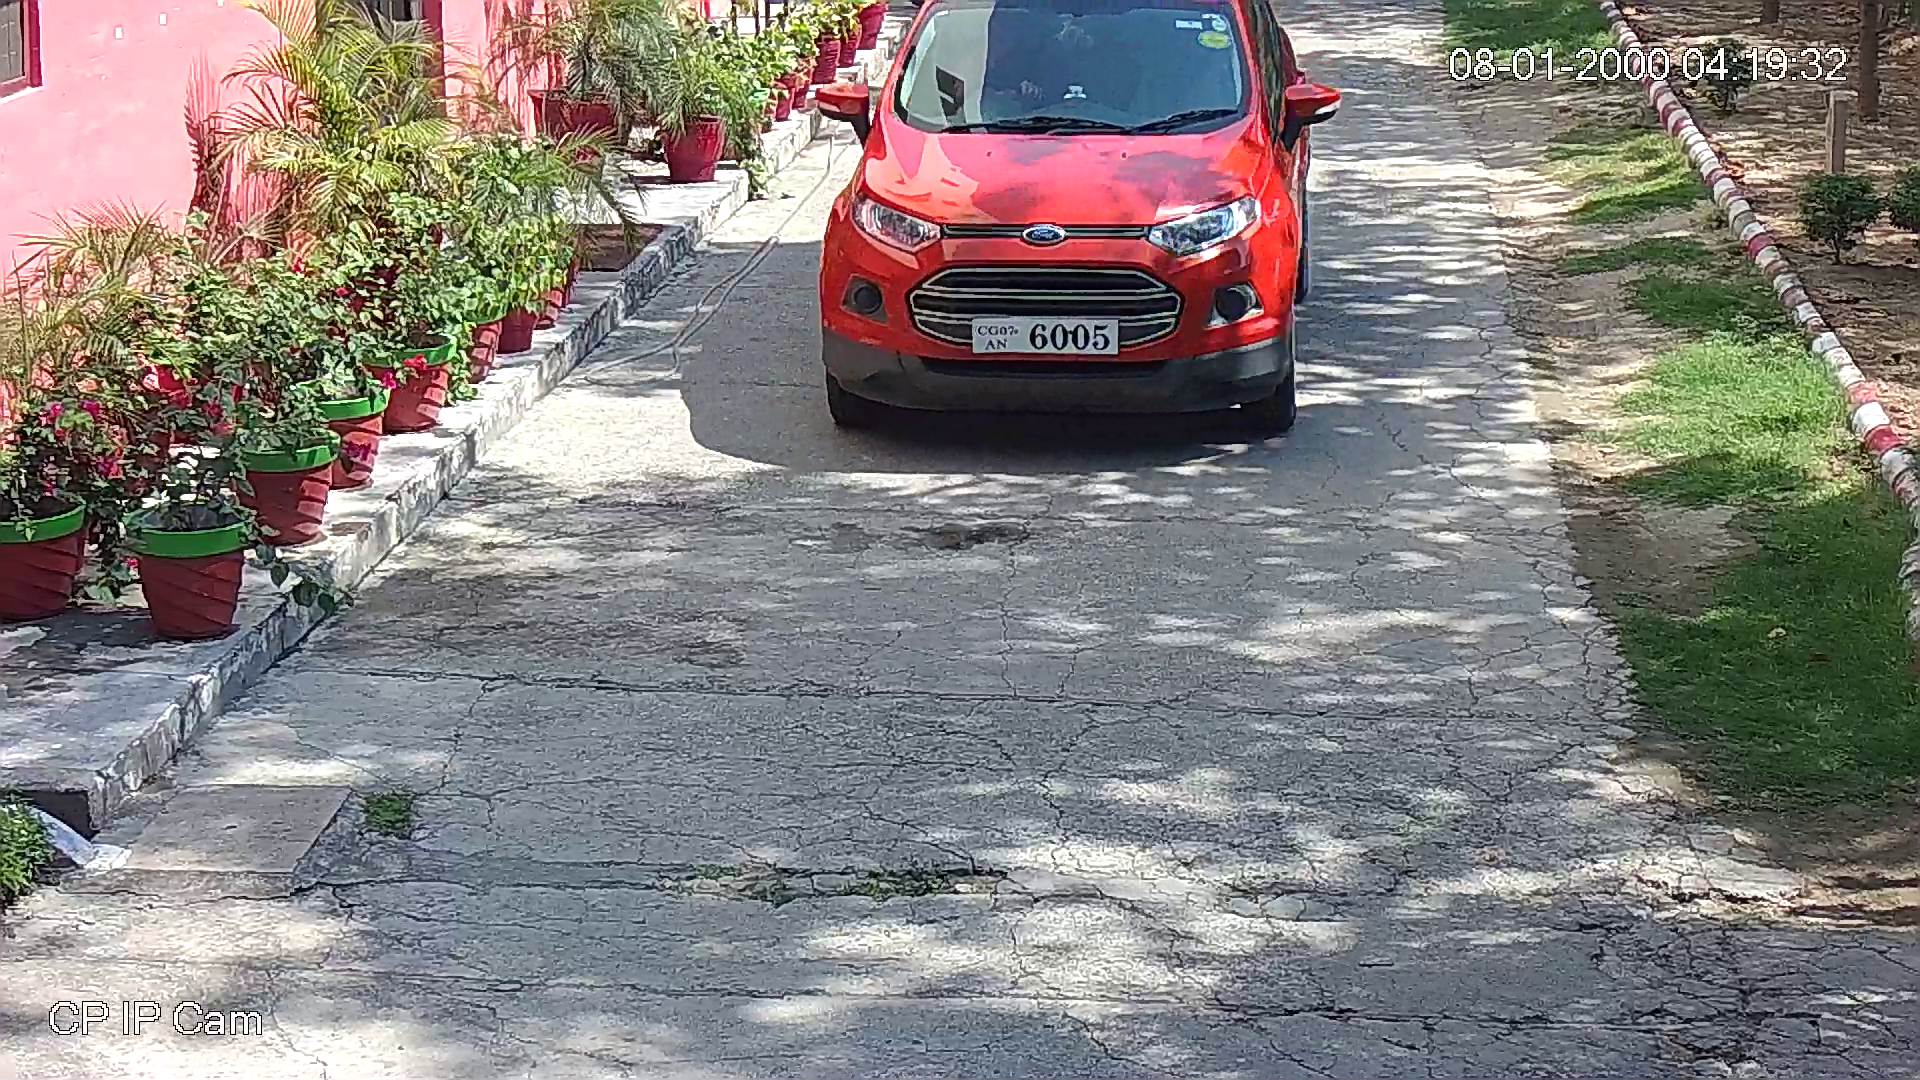plate: (969, 316, 1121, 358)
